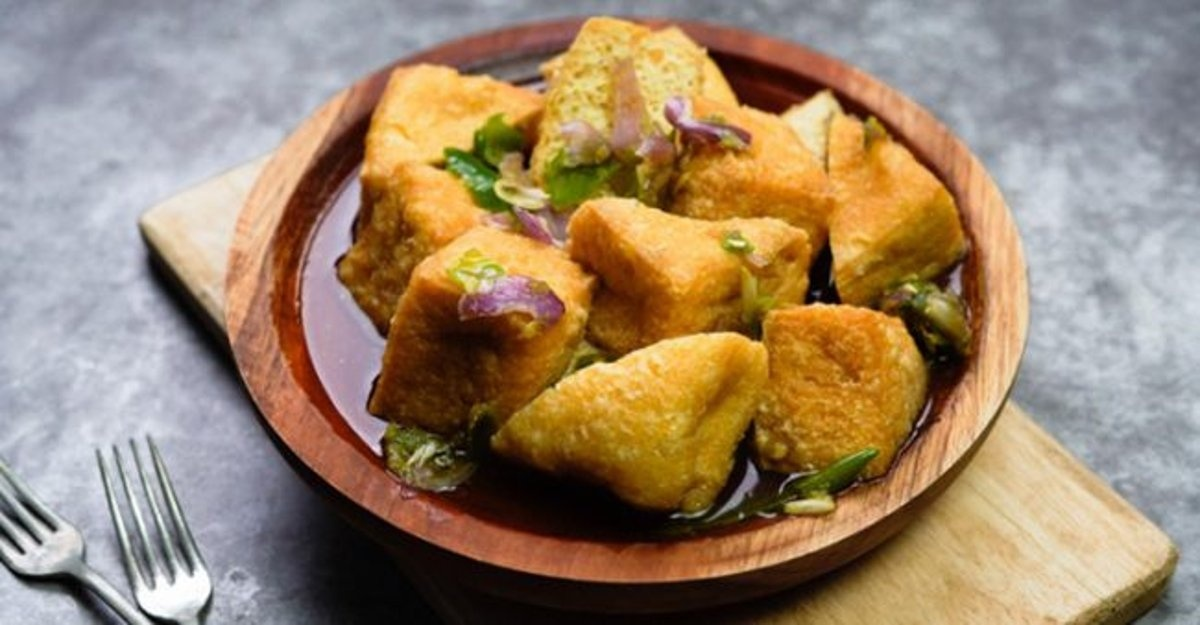tahu_gejrot: (295, 14, 973, 540)
